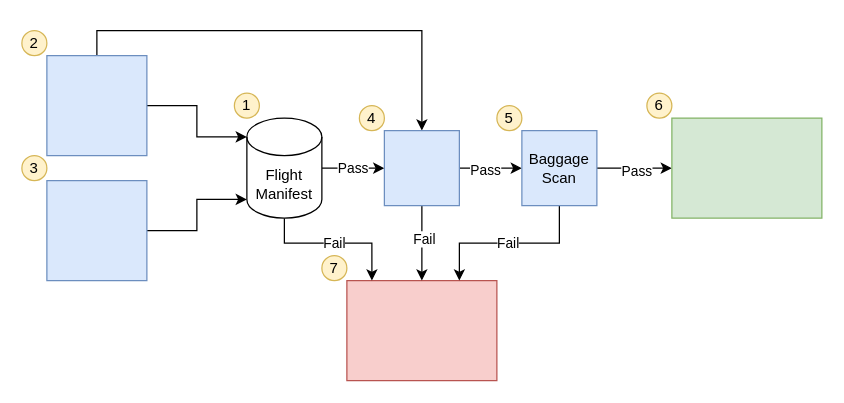
Some shapes in this 844 by 403 pixel diagram are drawn without their labels. The centre of each missing label's shape, as x and y in pixels:
Boarding Pass Submission: pixel 96 230
ID Card Submission: pixel 96 105
Passenger Face Video: pixel 421 167
See Crew Member: pixel 421 330
Successful Validation: pixel 746 167
